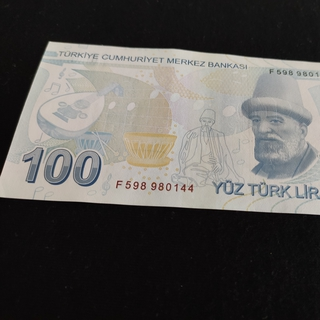100TLBack: (0, 40, 320, 220)
